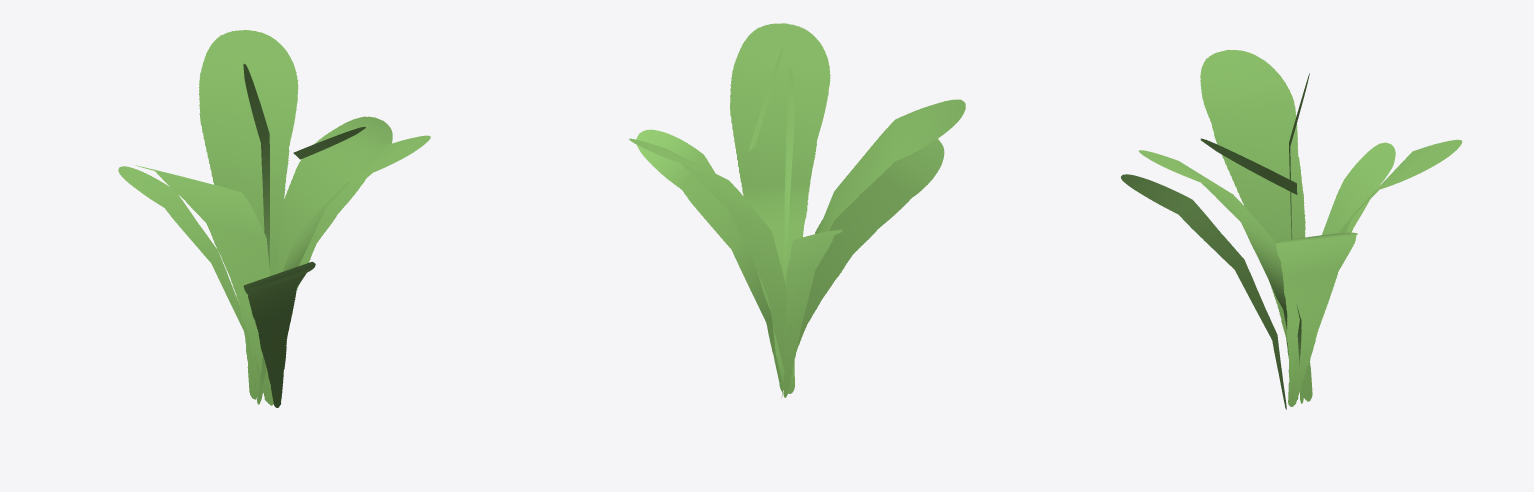
The model's file is Grass.fbx.
The picture shows the model from 3 angles, left to right: view 1: azimuth 30°, elevation 25°; view 2: azimuth 150°, elevation 25°; view 3: azimuth 270°, elevation 25°; orthographic projection. The views are drawn at different scales.
Visible parts, largest first — view 1: Grass; view 2: Grass; view 3: Grass.
Part boxes in pixels (x1=…): Grass: x1=118, y1=30, x2=430, y2=407; Grass: x1=629, y1=23, x2=965, y2=397; Grass: x1=1121, y1=50, x2=1462, y2=409.
Size of the model in its own units: 21.36 by 17.94 by 20.96.
